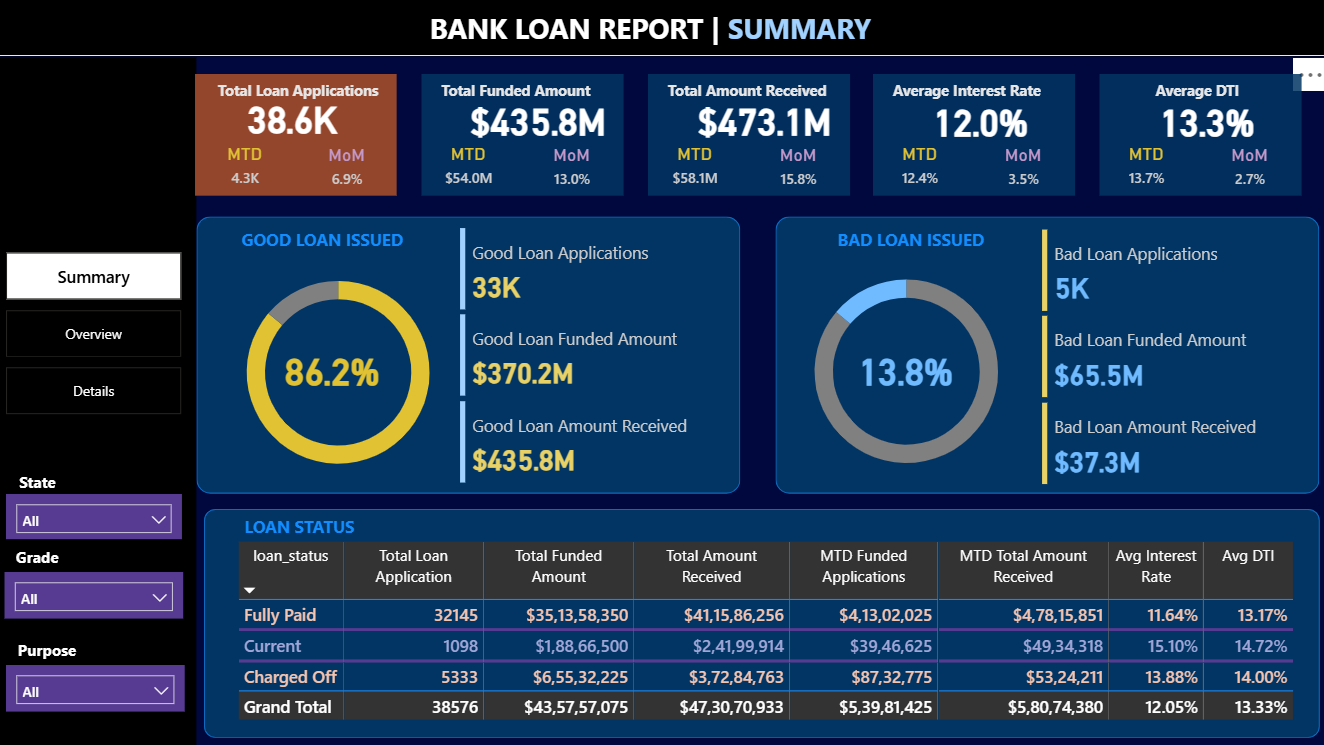

This screenshot's page, from the dashboard's own definition file:
{"tool":"powerbi","page":{"name":"Summary","canvas":[1280,720],"ordinal":0},"visuals":[{"type":"shape","box":[0,55.5,194.2,664.5],"z":0},{"type":"shape","box":[410.2,71.3,193.7,117],"z":0,"group":"g3"},{"type":"shape","box":[626.7,71.3,193.7,117],"z":0,"group":"g4"},{"type":"shape","box":[843.2,71.3,193.7,117],"z":0,"group":"g5"},{"type":"shape","box":[192.3,71.4,193.7,117],"z":0,"group":"g1"},{"type":"shape","box":[1059.7,71.9,193.7,117],"z":0,"group":"g6"},{"type":"card","fields":{"Values":["bank_loan_data.Total Loan Application"]},"box":[228.8,76.7,113.6,69.9],"z":1000,"group":"g1"},{"type":"card","fields":{"Values":["bank_loan_data.Total Funded Amount"]},"box":[447.1,82,147.9,64.6],"z":1000,"group":"g3"},{"type":"card","fields":{"Values":["bank_loan_data.Total Amount Received"]},"box":[663.6,82,147.9,64.6],"z":1000,"group":"g4"},{"type":"card","fields":{"Values":["bank_loan_data.Avg Interest Rate"]},"box":[872.1,82.5,147.9,64.6],"z":1000,"group":"g5"},{"type":"card","fields":{"Values":["bank_loan_data.Avg DTI"]},"box":[1088.6,83.1,147.9,64.6],"z":1000,"group":"g6"},{"type":"shape","box":[201.4,489.6,1069.7,219.5],"z":1000},{"type":"shape","box":[0,0,1280.3,55],"z":2000},{"type":"textbox","box":[204.7,71.3,197.8,40.3],"z":2000,"group":"g1"},{"type":"textbox","box":[420.9,71.3,197.8,40.3],"z":2000,"group":"g3"},{"type":"textbox","box":[637.4,71.3,197.8,40.3],"z":2000,"group":"g4"},{"type":"textbox","box":[853.9,71.3,197.8,40.3],"z":2000,"group":"g5"},{"type":"textbox","box":[1070.1,71.3,169.4,40.3],"z":2000,"group":"g6"},{"type":"textbox","box":[204.4,213.8,248.8,37.7],"z":2000,"group":"g7"},{"type":"textbox","box":[12.1,447.4,95.3,31.4],"z":2000,"group":"g9"},{"type":"textbox","box":[207.4,489.6,248.8,37.7],"z":2000,"group":"g8"},{"type":"card","title":"MTD","fields":{"Values":["bank_loan_data.MTD Loan Applications"]},"box":[204.7,137.2,69.5,51.1],"z":3000,"group":"g1"},{"type":"card","title":"MTD","fields":{"Values":["bank_loan_data.MTD Funded Applications"]},"box":[420.9,137.2,69.5,51.1],"z":3000,"group":"g3"},{"type":"card","title":"MTD","fields":{"Values":["bank_loan_data.MTD Total Amount Received"]},"box":[637.4,137.2,69.5,51.1],"z":3000,"group":"g4"},{"type":"card","title":"MTD","fields":{"Values":["bank_loan_data.MTD Average Interest Rate"]},"box":[853.9,137.2,69.5,51.1],"z":3000,"group":"g5"},{"type":"card","title":"MTD","fields":{"Values":["bank_loan_data.MTD Average DTI"]},"box":[1070.4,137.8,69.5,51.1],"z":3000,"group":"g6"},{"type":"textbox","box":[12.1,517.4,83.2,31.4],"z":3000},{"type":"group","id":"g1","title":"Group 2","box":[192.3,71.3,210.2,117.1],"z":3005,"group":"g2"},{"type":"card","title":"MoM","fields":{"Values":["bank_loan_data.MoM Loan Applications"]},"box":[303,138.2,69.5,49.8],"z":4000,"group":"g1"},{"type":"card","title":"MoM","fields":{"Values":["bank_loan_data.MoM Total Funded Amount"]},"box":[519.1,138.2,69.5,49.8],"z":4000,"group":"g3"},{"type":"card","title":"MoM","fields":{"Values":["bank_loan_data.MoM Total Amount Received"]},"box":[735.6,138.2,69.5,49.8],"z":4000,"group":"g4"},{"type":"card","title":"MoM","fields":{"Values":["bank_loan_data.MoM Average Interest Rate"]},"box":[952.1,138.2,69.5,49.8],"z":4000,"group":"g5"},{"type":"card","title":"MoM","fields":{"Values":["bank_loan_data.MoM Average DTI"]},"box":[1168.6,138.9,69.5,49.8],"z":4000,"group":"g6"},{"type":"textbox","box":[9.6,607.8,117,31.4],"z":4000},{"type":"shape","box":[748.6,208.6,521.4,265.7],"z":5000},{"type":"shape","box":[194.3,208.6,521.4,265.7],"z":6000},{"type":"textbox","box":[784,213.8,203.1,37.7],"z":7000},{"type":"card","fields":{"Values":["bank_loan_data.Good Loan %"]},"box":[262.2,322.8,123.7,64.6],"z":8000},{"type":"textbox","box":[412.9,4,520.4,45.7],"z":9000},{"type":"group","id":"g2","title":"Group 1","box":[192.3,71.3,210.2,117.1],"z":10000},{"type":"group","id":"g3","title":"Group 2","box":[410.2,71.3,208.4,117],"z":11000},{"type":"group","id":"g4","title":"Group 2","box":[626.7,71.3,208.4,117],"z":12000},{"type":"group","id":"g5","title":"Group 2","box":[843.2,71.3,208.4,117],"z":13000},{"type":"group","id":"g6","title":"Group 2","box":[1059.7,71.3,193.7,117],"z":14000},{"type":"donutChart","fields":{"Category":["bank_loan_data.Good Vs Bad Loan"],"Y":["bank_loan_data.Total Loan Application"]},"box":[203.8,242.4,250.9,229.1],"z":15000},{"type":"group","id":"g7","title":"Group 2","box":[204.4,213.8,248.8,37.7],"z":16000},{"type":"cardVisual","fields":{"Data":["bank_loan_data.Good Loan Applications","bank_loan_data.Good Loan Funded Amount","bank_loan_data.Good Loan Amount Received"]},"box":[441.1,213.8,266.3,256.9],"z":17000},{"type":"donutChart","fields":{"Category":["bank_loan_data.Good Vs Bad Loan"],"Y":["bank_loan_data.Total Loan Application"]},"box":[749.1,242.1,250.1,230],"z":18000},{"type":"card","fields":{"Values":["bank_loan_data.Bad Loan %"]},"box":[810.9,322.8,125.1,64.6],"z":19000},{"type":"cardVisual","fields":{"Data":["bank_loan_data.Bad Loan Applications","bank_loan_data.Bad Loan Funded Amount","bank_loan_data.Bad Loan Amount Received"]},"box":[999.2,215.2,266.3,256.9],"z":20000},{"type":"tableEx","fields":{"Values":["bank_loan_data.loan_status","bank_loan_data.Total Loan Application","bank_loan_data.Total Funded Amount","bank_loan_data.Total Amount Received","bank_loan_data.MTD Funded Applications","bank_loan_data.MTD Total Amount Received","bank_loan_data.Avg Interest Rate","bank_loan_data.Avg DTI"]},"box":[229.1,515,1025.1,194.2],"z":21000},{"type":"group","id":"g8","title":"Group 2","box":[207.4,489.6,248.4,37.4],"z":22000},{"type":"slicer","fields":{"Values":["bank_loan_data.address_state"]},"box":[12.1,474,168.8,43.4],"z":23000},{"type":"slicer","fields":{"Values":["bank_loan_data.grade"]},"box":[9.6,548.7,171.3,44.6],"z":24000},{"type":"slicer","fields":{"Values":["bank_loan_data.purpose"]},"box":[12.1,639.2,171.3,44.6],"z":25000},{"type":"group","id":"g9","title":"Group 2","box":[12.1,447.4,95.3,31.4],"z":26000},{"type":"pageNavigator","box":[12.1,242.4,168.8,158],"z":27000}]}

Visuals, with their boxes in screenshot pixels (x1, y1, x2, y2), scaled from the page's 1280x720 canvas onto the 1324x745 screenshot:
shape: (0,57,201,744)
shape: (424,74,625,195)
shape: (648,74,849,195)
shape: (872,74,1073,195)
shape: (199,74,399,195)
shape: (1096,74,1296,195)
card - bank_loan_data.Total Loan Application: (237,79,354,152)
card - bank_loan_data.Total Funded Amount: (462,85,615,152)
card - bank_loan_data.Total Amount Received: (686,85,839,152)
card - bank_loan_data.Avg Interest Rate: (902,85,1055,152)
card - bank_loan_data.Avg DTI: (1126,86,1279,153)
shape: (208,507,1315,734)
shape: (0,0,1323,57)
textbox: (212,74,416,115)
textbox: (435,74,640,115)
textbox: (659,74,864,115)
textbox: (883,74,1088,115)
textbox: (1107,74,1282,115)
textbox: (211,221,469,260)
textbox: (13,463,111,495)
textbox: (215,507,472,546)
"MTD" card: (212,142,284,195)
"MTD" card: (435,142,507,195)
"MTD" card: (659,142,731,195)
"MTD" card: (883,142,955,195)
"MTD" card: (1107,143,1179,195)
textbox: (13,535,99,568)
"Group 2" group: (199,74,416,195)
"MoM" card: (313,143,385,195)
"MoM" card: (537,143,609,195)
"MoM" card: (761,143,833,195)
"MoM" card: (985,143,1057,195)
"MoM" card: (1209,144,1281,195)
textbox: (10,629,131,661)
shape: (774,216,1314,491)
shape: (201,216,740,491)
textbox: (811,221,1021,260)
card - bank_loan_data.Good Loan %: (271,334,399,401)
textbox: (427,4,965,51)
"Group 1" group: (199,74,416,195)
"Group 2" group: (424,74,640,195)
"Group 2" group: (648,74,864,195)
"Group 2" group: (872,74,1088,195)
"Group 2" group: (1096,74,1296,195)
donutChart - bank_loan_data.Good Vs Bad Loan x bank_loan_data.Total Loan Application: (211,251,470,488)
"Group 2" group: (211,221,469,260)
cardVisual - bank_loan_data.Good Loan Applications x bank_loan_data.Good Loan Funded Amount: (456,221,732,487)
donutChart - bank_loan_data.Good Vs Bad Loan x bank_loan_data.Total Loan Application: (775,251,1034,488)
card - bank_loan_data.Bad Loan %: (839,334,968,401)
cardVisual - bank_loan_data.Bad Loan Applications x bank_loan_data.Bad Loan Funded Amount: (1034,223,1309,488)
tableEx - bank_loan_data.loan_status x bank_loan_data.Total Loan Application: (237,533,1297,734)
"Group 2" group: (215,507,471,545)
slicer - bank_loan_data.address_state: (13,490,187,535)
slicer - bank_loan_data.grade: (10,568,187,614)
slicer - bank_loan_data.purpose: (13,661,190,708)
"Group 2" group: (13,463,111,495)
pageNavigator: (13,251,187,414)
